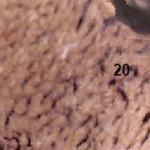alive: (2, 4, 148, 148)
